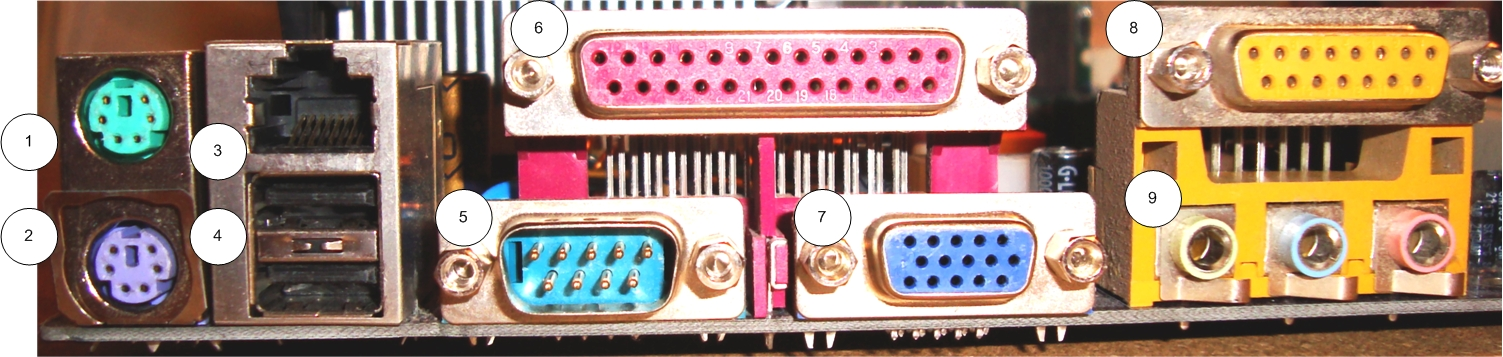Ethernet: (243, 45, 388, 162)
USB: (238, 163, 385, 238), (241, 254, 395, 323)
VGA: (868, 218, 1033, 300)
